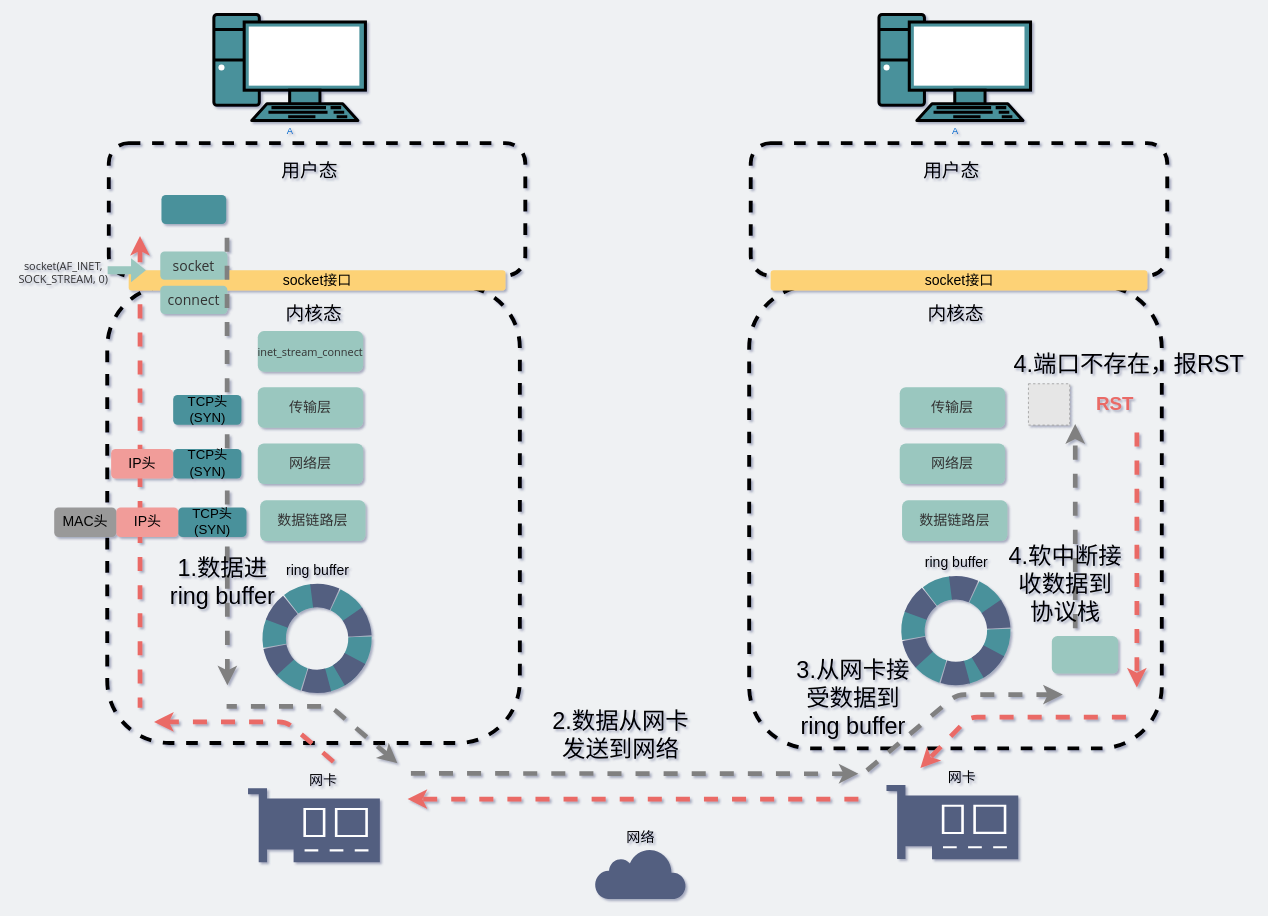
Some shapes in this 1268 by 916 pixel diagram are drawn without their labels. Grey dashed boxes stand in for pictures. The shapes that lost their labels are listed below. From the top down, each one's centre as x and y in pixels, then its label:
At point (193, 209): "connect()".
At point (1084, 654): "软中断".
